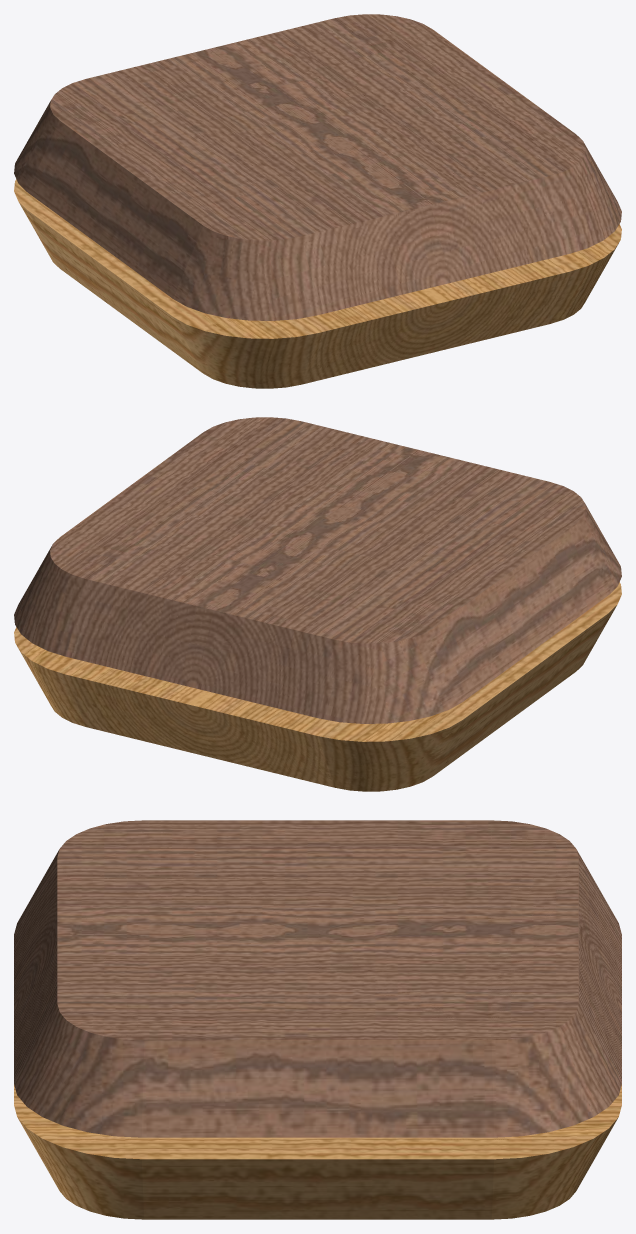
Rendered from Model_animation.glb.
The picture shows the model from 3 angles, top to bottom: view 1: azimuth 30°, elevation 25°; view 2: azimuth 150°, elevation 25°; view 3: azimuth 270°, elevation 25°; orthographic projection. The views are drawn at different scales.
Visible parts, largest first — view 1: Rectangle1001, Rectangle0001; view 2: Rectangle1001, Rectangle0001; view 3: Rectangle1001, Rectangle0001.
Part boxes in pixels (x1,y1,x2,y2): Rectangle1001: (14,14,621,320); Rectangle0001: (14,179,621,388); Rectangle1001: (14,417,621,723); Rectangle0001: (14,582,621,791); Rectangle1001: (14,820,621,1137); Rectangle0001: (14,1084,621,1219).
Size of the model in its own units: 0.07 by 0.0227 by 0.07.
Materials: 3 (3 with a texture image).
